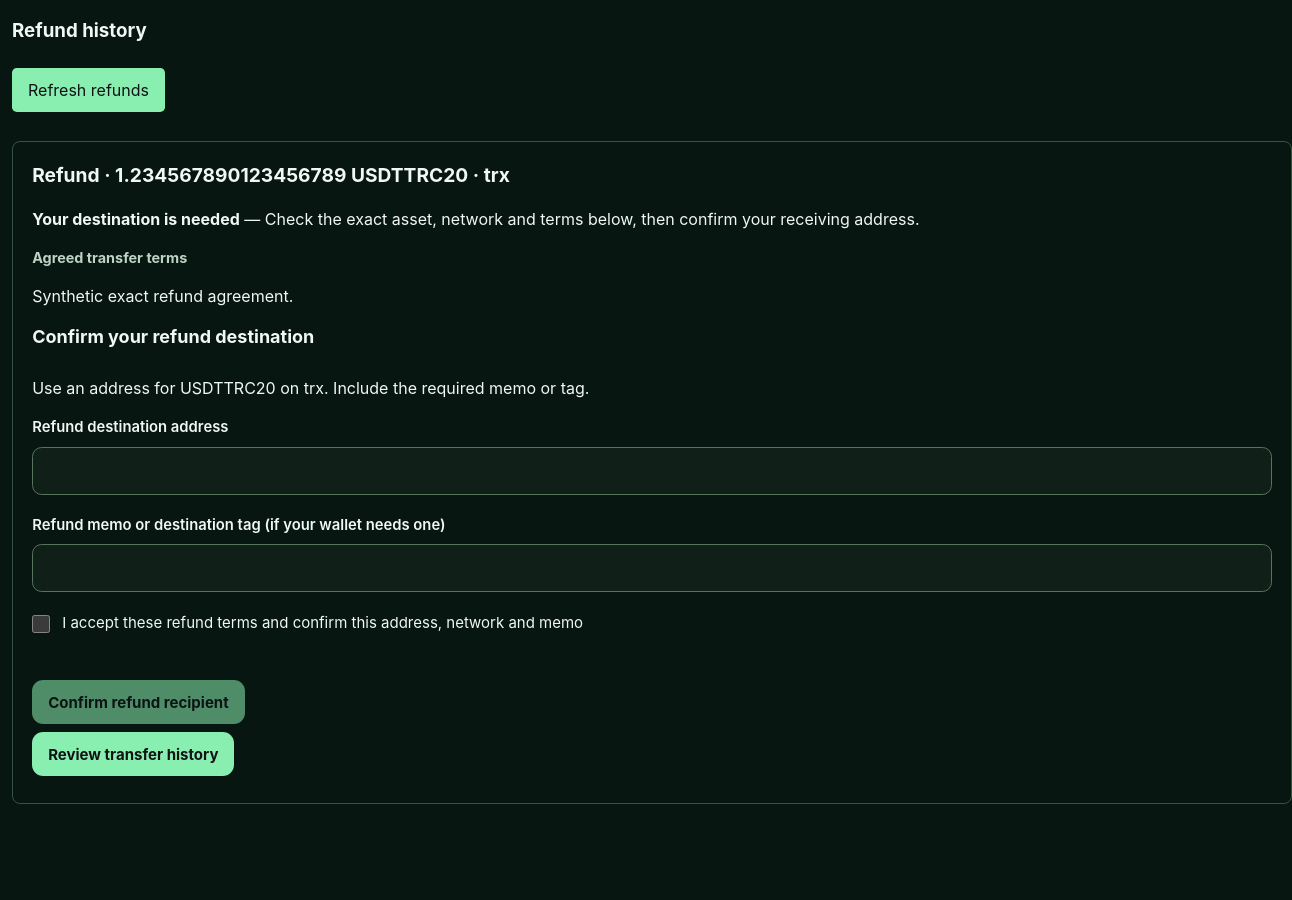
Scenario: discards a saved private destination after a status read denies access with 401
Type "synthetic-private-destination" into the field labelled "Refund destination address".
click(652, 471); type("synthetic-private-destination")  # box [32,447,1272,495]
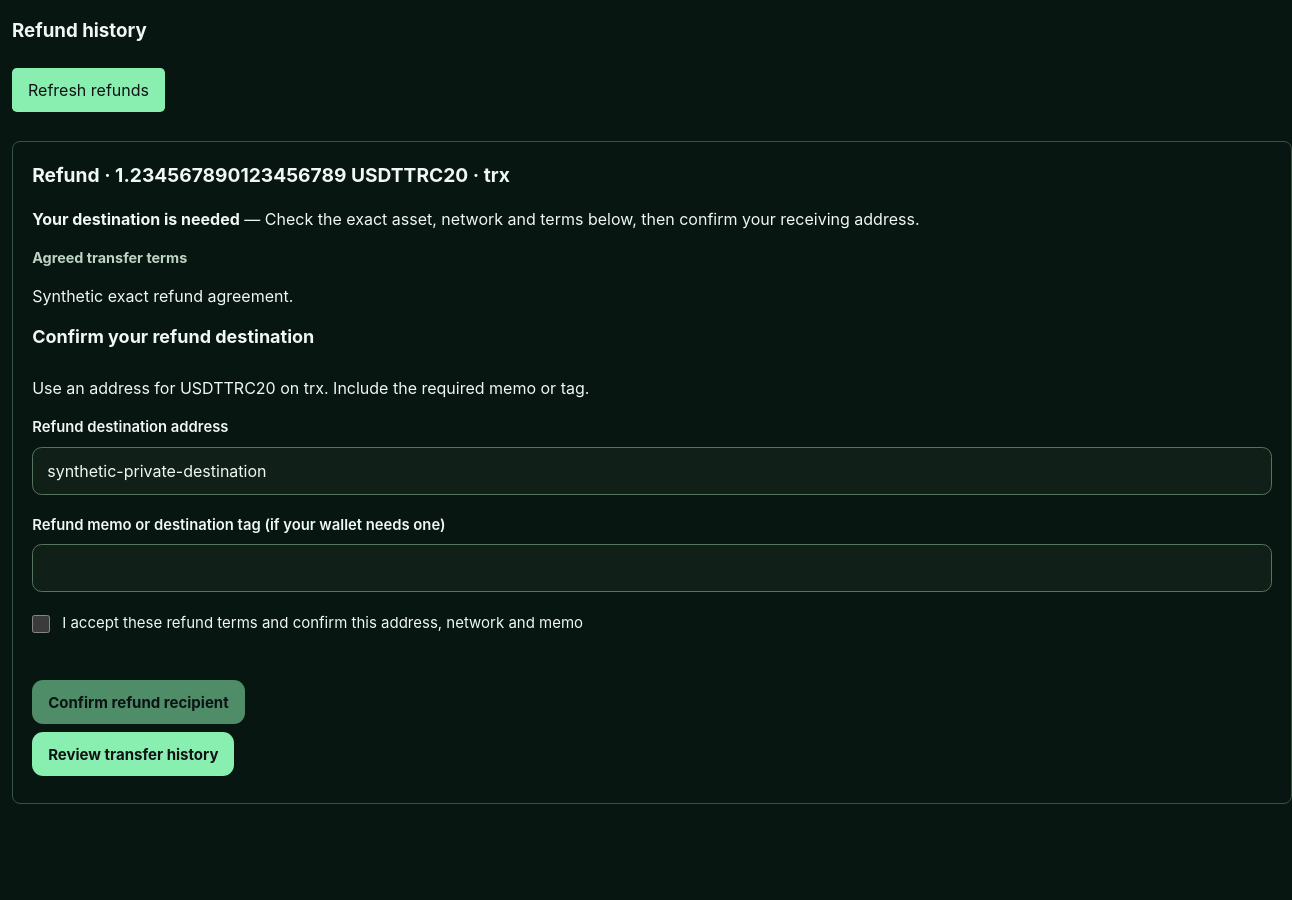
Click the checkbox labelled "I accept these refund terms and confirm this address, network and memo".
click(41, 624)  # box [32,615,50,633]
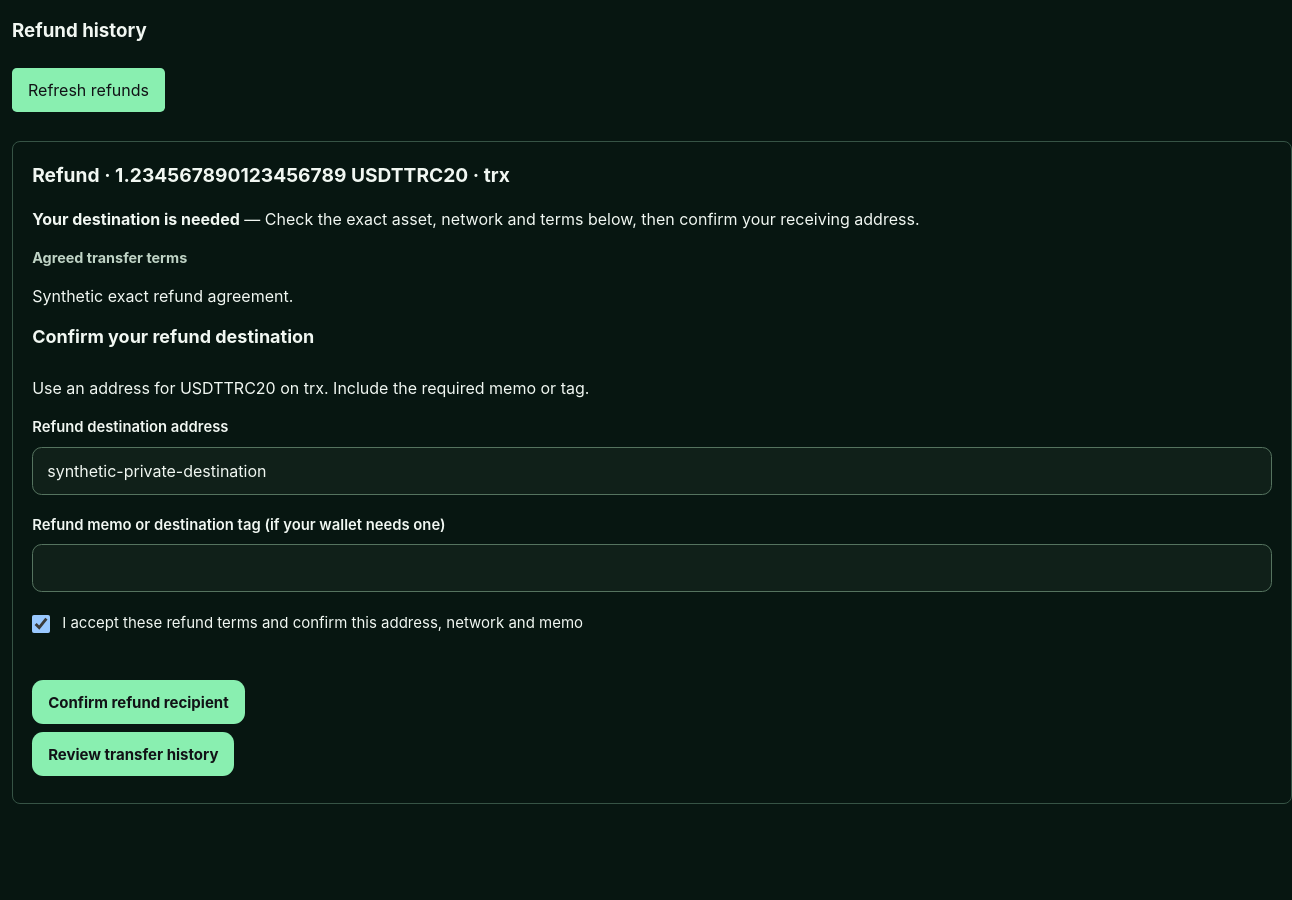
Click the button "Confirm refund recipient".
click(138, 702)  # box [32,680,245,724]
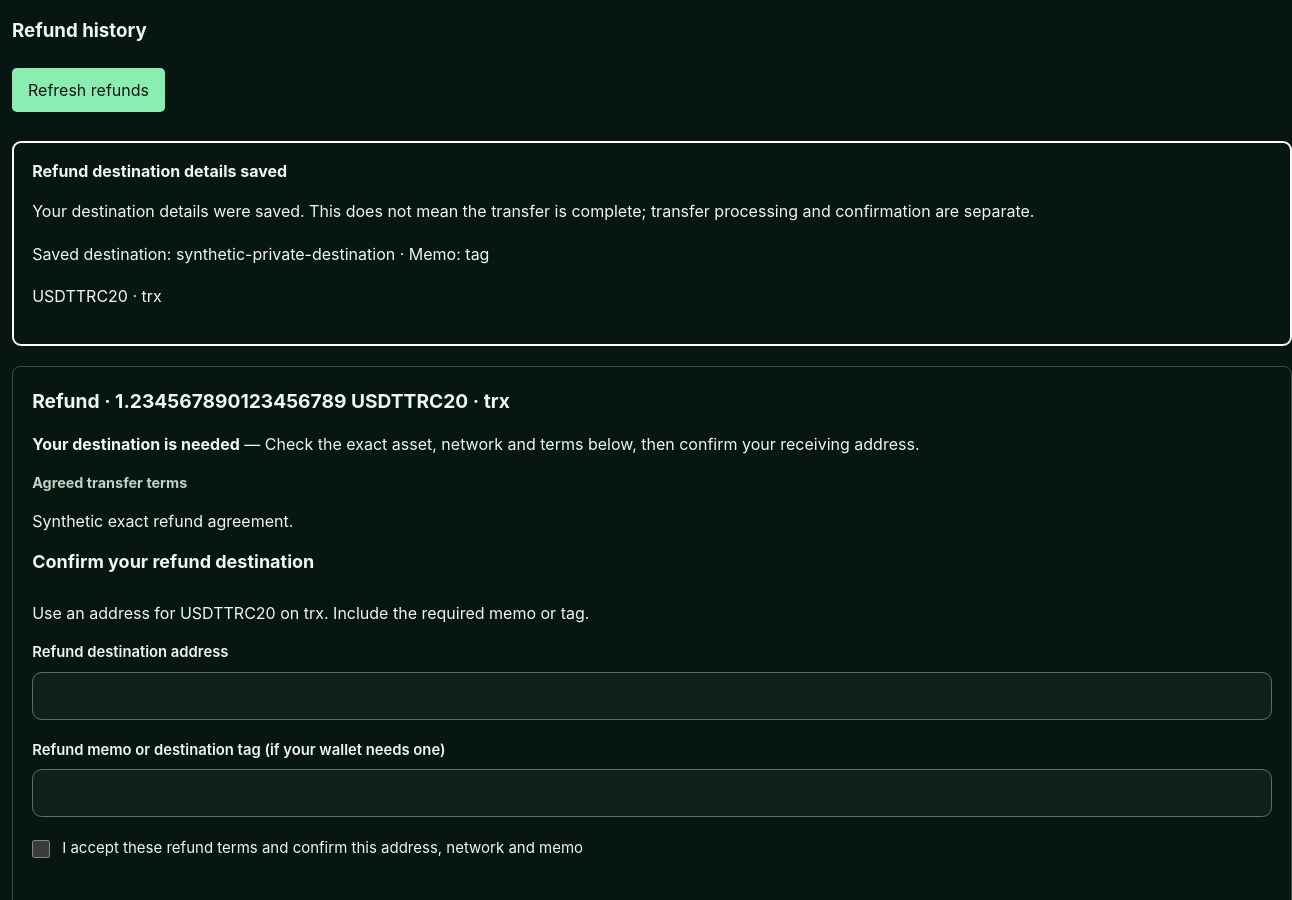
expect the element named "Refund destination saved" is shown: met, box [12,141,1291,346]
